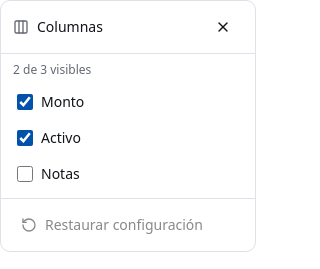
Test: ColumnSettingsPanel › muestra una columna al marcarla
What coordinates should you click on to do the following:
click the checkbox labelled "Notas"
I would click on:
 (25, 174)
Its box is [17, 166, 33, 182].
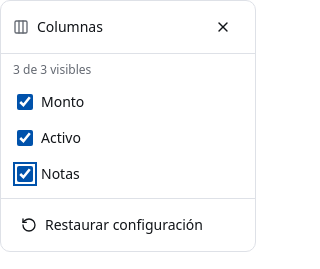
Result: the checkbox labelled "Notas" is checked at [17, 166, 33, 182]
Result: the text "3 de 3 visibles" is shown at [13, 61, 91, 78]
